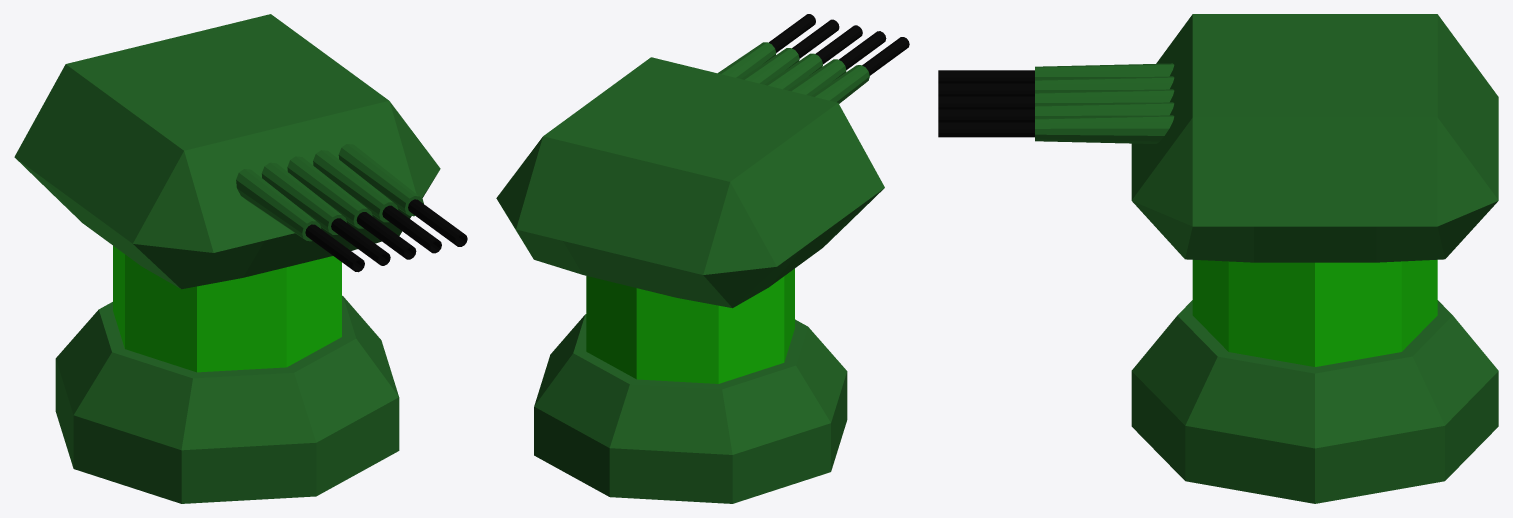
File: Turret3_0.glb
3 renders of one model, left to right at view 1: azimuth 30°, elevation 25°; view 2: azimuth 150°, elevation 25°; view 3: azimuth 270°, elevation 25°, orthographic. The views are drawn at different scales.
Parts seen in each view (by area): view 1: TurretUpgradePath3_0; view 2: TurretUpgradePath3_0; view 3: TurretUpgradePath3_0.
Boxes of the visible parts, box(x1,y1,x2,y2) form: TurretUpgradePath3_0: box(14, 14, 467, 503); TurretUpgradePath3_0: box(496, 14, 909, 503); TurretUpgradePath3_0: box(938, 14, 1498, 503).
Size of the model in its own units: 3 by 3.25 by 4.58.
